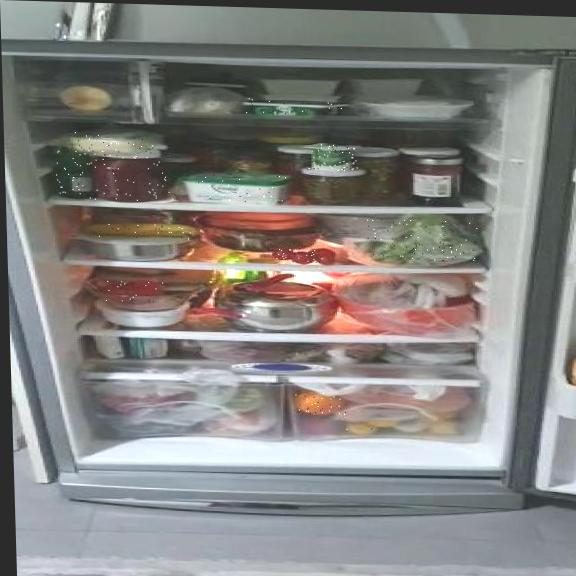banana: (86, 222, 203, 240)
cheese: (186, 172, 291, 204), (73, 132, 158, 154)
cream cheese: (244, 98, 345, 116)
lemon: (347, 421, 381, 434)
lettuce: (368, 219, 479, 263)
mineral water: (54, 146, 94, 200)
orange: (295, 392, 347, 415)
tomato: (104, 280, 165, 303), (272, 248, 337, 264)
tomato paste: (92, 154, 170, 203)
yoghurt: (307, 143, 358, 171)
